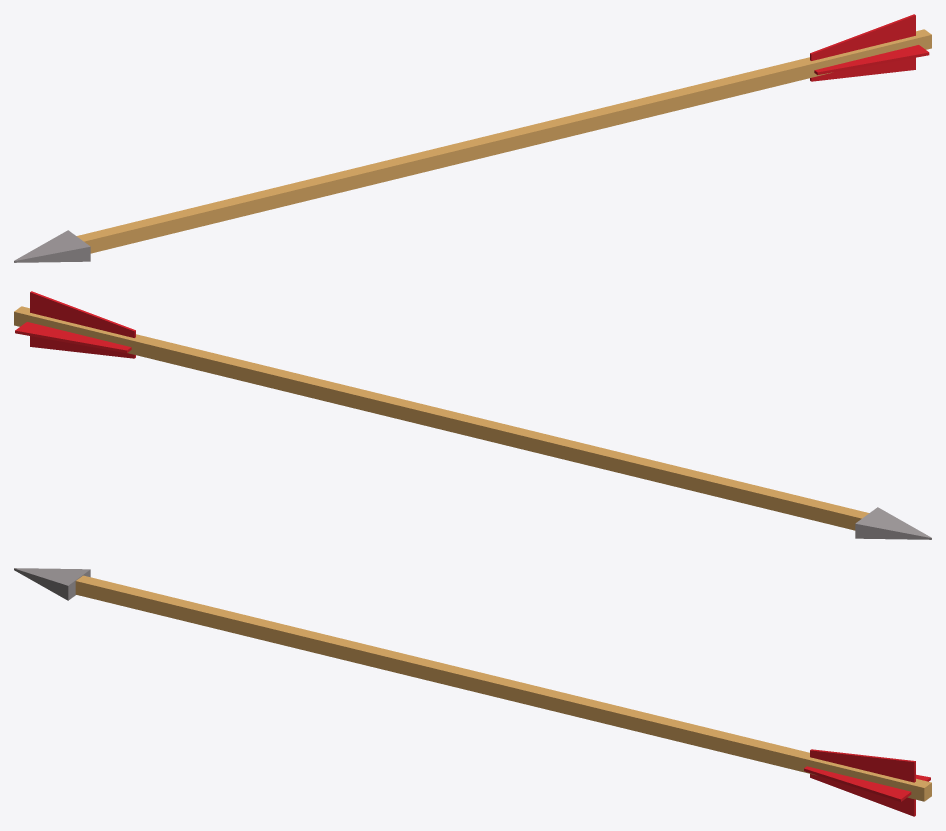
The model's file is B_Base_Arrow_Model.fbx.
3 views of the same model, one above another, from view 1: azimuth 30°, elevation 25°; view 2: azimuth 150°, elevation 25°; view 3: azimuth 330°, elevation 25° (orthographic).
Parts seen in each view (by area): view 1: Cube, Plane.001, Plane, Plane.002; view 2: Cube, Plane.001, Plane, Plane.002; view 3: Cube, Plane.001, Plane, Plane.002.
Boxes of the visible parts, x1,y1,x2,y2 form: Cube: [76, 29, 931, 253]; Plane.001: [810, 14, 915, 81]; Plane: [14, 230, 90, 262]; Plane.002: [814, 45, 929, 74]; Cube: [14, 306, 869, 530]; Plane.001: [30, 291, 135, 358]; Plane: [855, 507, 931, 539]; Plane.002: [15, 322, 131, 353]; Cube: [75, 575, 931, 801]; Plane.001: [810, 749, 915, 816]; Plane: [14, 568, 90, 600]; Plane.002: [804, 766, 930, 801].
Size of the model in its own units: 70 by 4 by 4.
